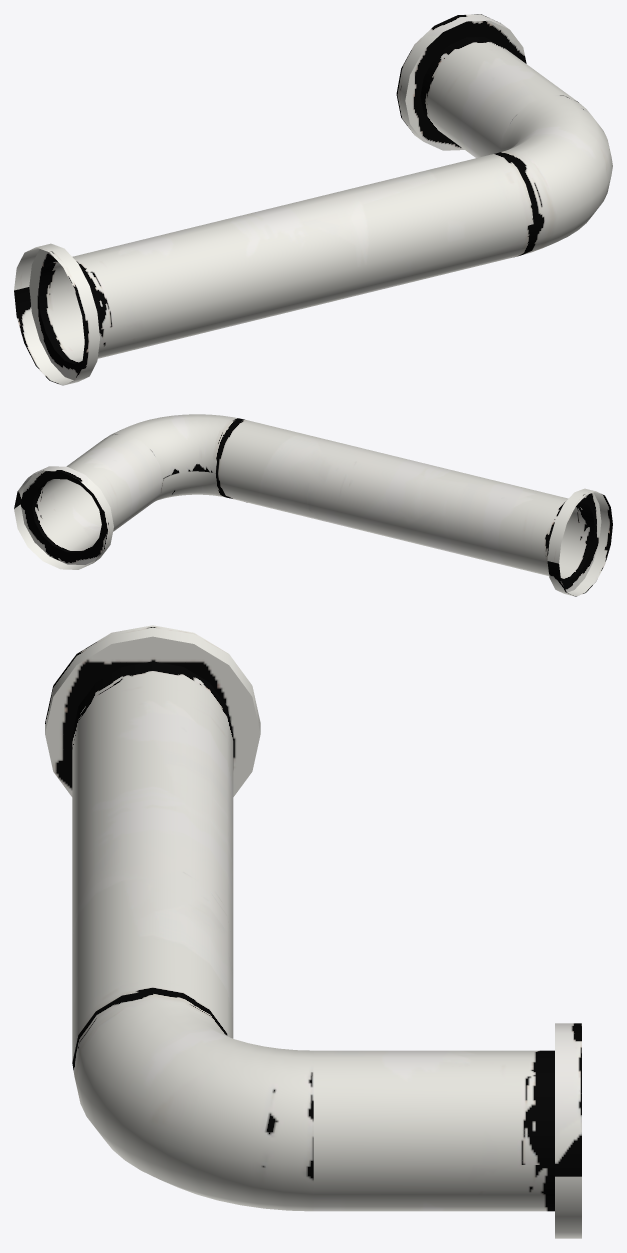
The model's file is props_mining_industrial_pipe01_l_160_01.glb.
The picture shows the model from 3 angles, top to bottom: view 1: azimuth 30°, elevation 25°; view 2: azimuth 150°, elevation 25°; view 3: azimuth 270°, elevation 25°; orthographic projection. The views are drawn at different scales.
Visible parts, largest first — view 1: models/props_mining/industrial_pipe01_l_160_01; view 2: models/props_mining/industrial_pipe01_l_160_01; view 3: models/props_mining/industrial_pipe01_l_160_01.
Part boxes in pixels (x1=…): models/props_mining/industrial_pipe01_l_160_01: x1=14, y1=14, x2=612, y2=385; models/props_mining/industrial_pipe01_l_160_01: x1=14, y1=414, x2=612, y2=596; models/props_mining/industrial_pipe01_l_160_01: x1=45, y1=625, x2=581, y2=1238.
Bounding box in the file's own units: 160 × 32.16 × 80.08.
Materials: 1 (1 with a texture image).
